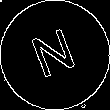N_S: (27, 24, 82, 86)
